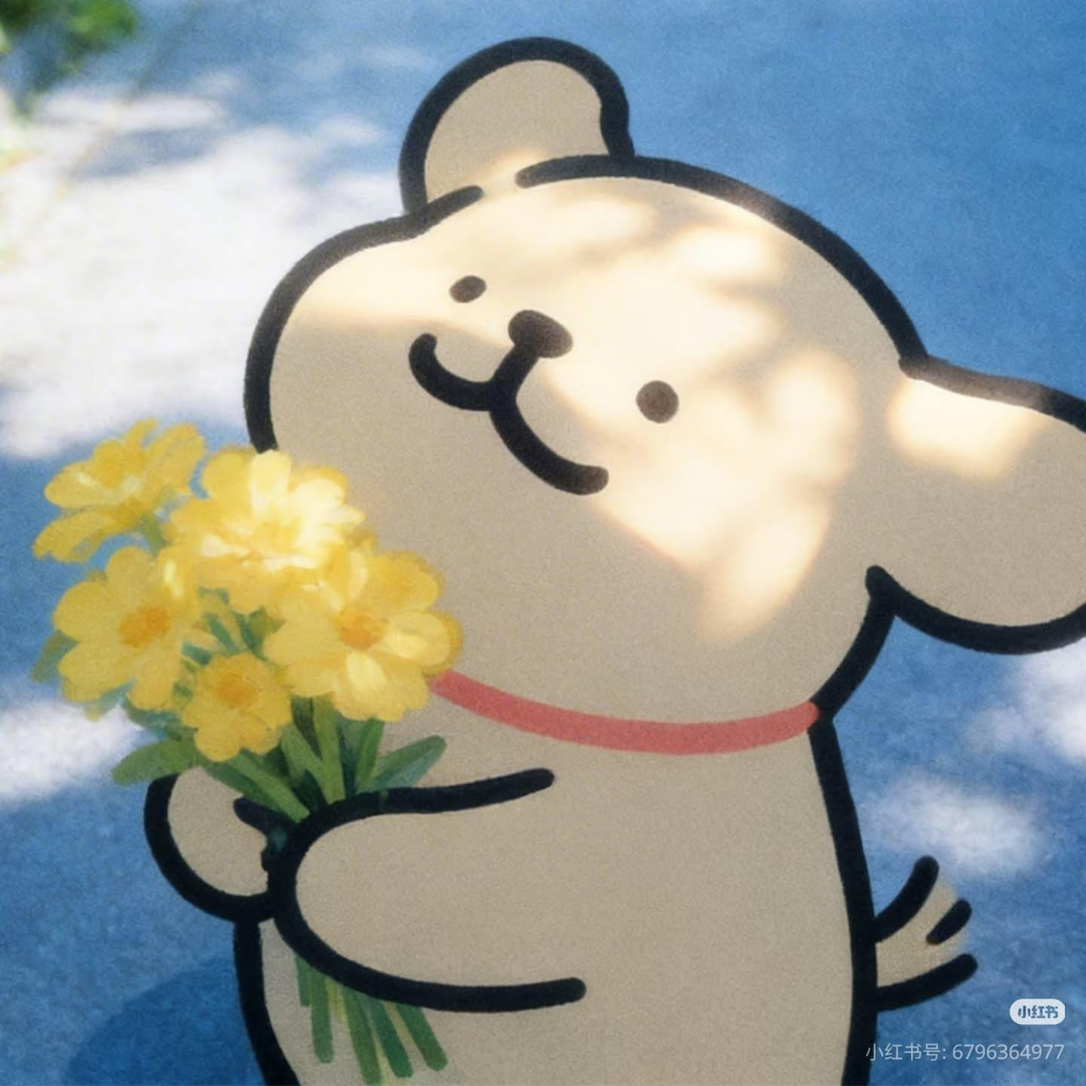non-dog: (146, 29, 1086, 1086)
